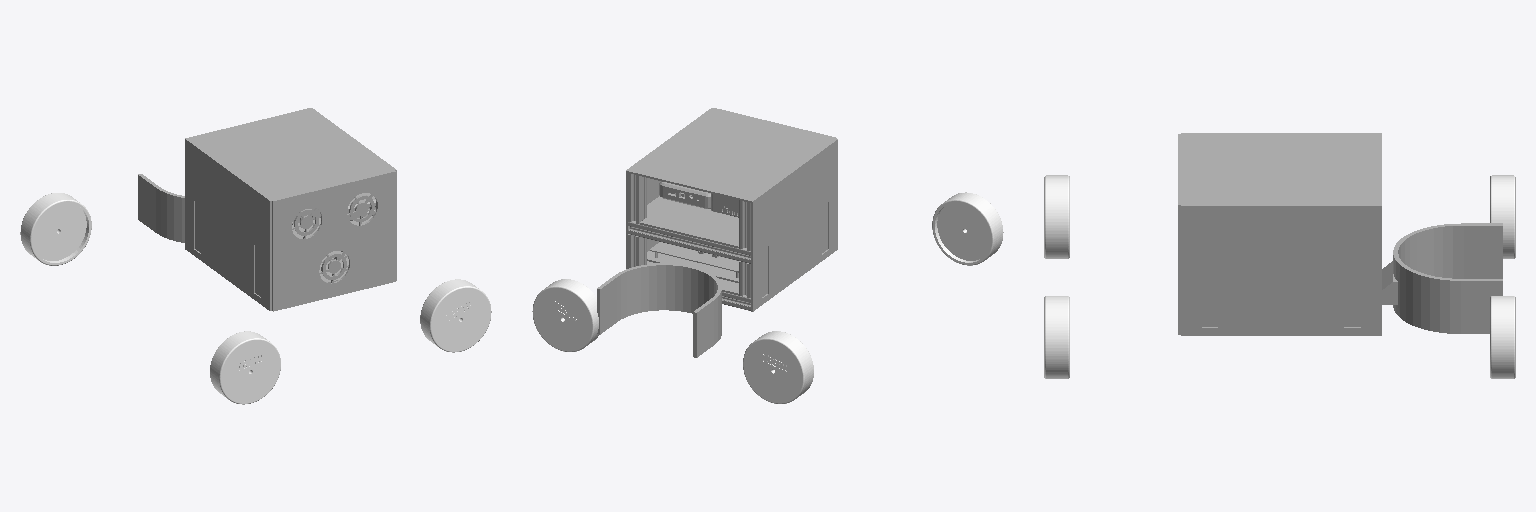
URDF robot description (4_wheel_test):
<?xml version="1.0" encoding="utf-8"?>
<!-- This URDF was automatically created by SolidWorks to URDF Exporter! Originally created by [author] ([email redacted]) 
     Commit Version: 1.5.1-0-g916b5db  Build Version: 1.5.7152.31018
     For more information, please see http://wiki.ros.org/sw_urdf_exporter -->
<robot
  name="4_wheel_test">
  <link
    name="base_link">
    <inertial>
      <origin
        xyz="-0.0367858487142706 7.02365588651542E-05 0.115228945559885"
        rpy="0 0 0" />
      <mass
        value="2.51249390515751" />
      <inertia
        ixx="0.0196353971058642"
        ixy="-9.99657696437685E-19"
        ixz="1.22598987691641E-05"
        iyy="0.0237815617612087"
        iyz="2.0350499262099E-17"
        izz="0.0429113982305248" />
    </inertial>
    <visual>
      <origin
        xyz="0 0 0"
        rpy="0 0 0" />
      <geometry>
        <mesh
          filename="package://4_wheel_test/meshes/base_link.STL" />
      </geometry>
      <material
        name="">
        <color
          rgba="0.752941176470588 0.752941176470588 0.752941176470588 1" />
      </material>
    </visual>
    <collision>
      <origin
        xyz="0 0 0"
        rpy="0 0 0" />
      <geometry>
        <mesh
          filename="package://4_wheel_test/meshes/base_link.STL" />
      </geometry>
    </collision>
  </link>
  <link
    name="wheel_1">
    <inertial>
      <origin
        xyz="0.017669 -2.0514E-05 6.2467E-07"
        rpy="0 0 0" />
      <mass
        value="0.19333" />
      <inertia
        ixx="0.00025298"
        ixy="4.6921E-08"
        ixz="-1.4293E-09"
        iyy="0.00013675"
        iyz="-1.608E-09"
        izz="0.00013672" />
    </inertial>
    <visual>
      <origin
        xyz="0 0 0"
        rpy="0 0 0" />
      <geometry>
        <mesh
          filename="package://4_wheel_test/meshes/wheel_1.STL" />
      </geometry>
      <material
        name="">
        <color
          rgba="1 1 1 1" />
      </material>
    </visual>
    <collision>
      <origin
        xyz="0 0 0"
        rpy="0 0 0" />
      <geometry>
        <mesh
          filename="package://4_wheel_test/meshes/wheel_1.STL" />
      </geometry>
    </collision>
  </link>
  <joint
    name="wheel_1_joint"
    type="continuous">
    <origin
      xyz="0.113 0.25075 0.079213"
      rpy="1.2292 0 1.5708" />
    <parent
      link="base_link" />
    <child
      link="wheel_1" />
    <axis
      xyz="1 0 0" />
    <limit
      effort="3.1"
      velocity="7" />
  </joint>
  <link
    name="wheel_2">
    <inertial>
      <origin
        xyz="0.017669 -2.0514E-05 6.2467E-07"
        rpy="0 0 0" />
      <mass
        value="0.19333" />
      <inertia
        ixx="0.00025298"
        ixy="4.6921E-08"
        ixz="-1.4293E-09"
        iyy="0.00013675"
        iyz="-1.608E-09"
        izz="0.00013672" />
    </inertial>
    <visual>
      <origin
        xyz="0 0 0"
        rpy="0 0 0" />
      <geometry>
        <mesh
          filename="package://4_wheel_test/meshes/wheel_2.STL" />
      </geometry>
      <material
        name="">
        <color
          rgba="1 1 1 1" />
      </material>
    </visual>
    <collision>
      <origin
        xyz="0 0 0"
        rpy="0 0 0" />
      <geometry>
        <mesh
          filename="package://4_wheel_test/meshes/wheel_2.STL" />
      </geometry>
    </collision>
  </link>
  <joint
    name="wheel_2_joint"
    type="continuous">
    <origin
      xyz="-0.228 0.25075 0.078201"
      rpy="1.3884 0 1.5708" />
    <parent
      link="base_link" />
    <child
      link="wheel_2" />
    <axis
      xyz="1 0 0" />
    <limit
      effort="3.1"
      velocity="7" />
  </joint>
  <link
    name="wheel_3">
    <inertial>
      <origin
        xyz="0.017669 -2.0514E-05 6.2467E-07"
        rpy="0 0 0" />
      <mass
        value="0.19333" />
      <inertia
        ixx="0.00025298"
        ixy="4.6921E-08"
        ixz="-1.4293E-09"
        iyy="0.00013675"
        iyz="-1.608E-09"
        izz="0.00013672" />
    </inertial>
    <visual>
      <origin
        xyz="0 0 0"
        rpy="0 0 0" />
      <geometry>
        <mesh
          filename="package://4_wheel_test/meshes/wheel_3.STL" />
      </geometry>
      <material
        name="">
        <color
          rgba="1 1 1 1" />
      </material>
    </visual>
    <collision>
      <origin
        xyz="0 0 0"
        rpy="0 0 0" />
      <geometry>
        <mesh
          filename="package://4_wheel_test/meshes/wheel_3.STL" />
      </geometry>
    </collision>
  </link>
  <joint
    name="wheel_3_joint"
    type="continuous">
    <origin
      xyz="0.113 -0.25075 0.079215"
      rpy="1.9025 0 -1.5708" />
    <parent
      link="base_link" />
    <child
      link="wheel_3" />
    <axis
      xyz="1 0 0" />
    <limit
      effort="6.2"
      velocity="14" />
  </joint>
  <link
    name="wheel_4">
    <inertial>
      <origin
        xyz="0.017669 -2.0514E-05 6.2467E-07"
        rpy="0 0 0" />
      <mass
        value="0.19333" />
      <inertia
        ixx="0.00025298"
        ixy="4.6921E-08"
        ixz="-1.4293E-09"
        iyy="0.00013675"
        iyz="-1.608E-09"
        izz="0.00013672" />
    </inertial>
    <visual>
      <origin
        xyz="0 0 0"
        rpy="0 0 0" />
      <geometry>
        <mesh
          filename="package://4_wheel_test/meshes/wheel_4.STL" />
      </geometry>
      <material
        name="">
        <color
          rgba="1 1 1 1" />
      </material>
    </visual>
    <collision>
      <origin
        xyz="0 0 0"
        rpy="0 0 0" />
      <geometry>
        <mesh
          filename="package://4_wheel_test/meshes/wheel_4.STL" />
      </geometry>
    </collision>
  </link>
  <joint
    name="wheel_4_joint"
    type="continuous">
    <origin
      xyz="-0.228 -0.25075 0.078199"
      rpy="1.7433 0 -1.5708" />
    <parent
      link="base_link" />
    <child
      link="wheel_4" />
    <axis
      xyz="1 0 0" />
    <limit
      effort="6.2"
      velocity="14" />
  </joint>
</robot>

--- Facts derived from the render (not from the file) ---
3 views of the same robot in one strip: view 1: azimuth 30°, elevation 25°; view 2: azimuth 150°, elevation 25°; view 3: azimuth 270°, elevation 25° (orthographic).
Model 4_wheel_test with 5 links and 4 joints (4 continuous), rooted at base_link, posed every joint at zero.
Visible links, largest first — view 1: base_link, wheel_2, wheel_3, wheel_4; view 2: base_link, wheel_2, wheel_4, wheel_1; view 3: base_link, wheel_4, wheel_1, wheel_3, wheel_2.
Link boxes in pixels (x1,y1,x2,y2): base_link: (138, 108, 396, 311); wheel_2: (20, 193, 91, 265); wheel_3: (420, 279, 491, 352); wheel_4: (210, 331, 280, 404); base_link: (597, 108, 837, 357); wheel_2: (743, 331, 813, 403); wheel_4: (932, 192, 1003, 265); wheel_1: (532, 279, 599, 351); base_link: (1178, 133, 1502, 335); wheel_4: (1044, 175, 1069, 258); wheel_1: (1490, 296, 1515, 378); wheel_3: (1044, 296, 1069, 378); wheel_2: (1490, 175, 1515, 258).
Size in the robot's own frame: 0.441 by 0.5615 by 0.2198 metres.
5 mesh visuals loaded from 5 distinct referenced files (5 binary STL).
